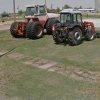Tractor: (9, 4, 89, 57)
